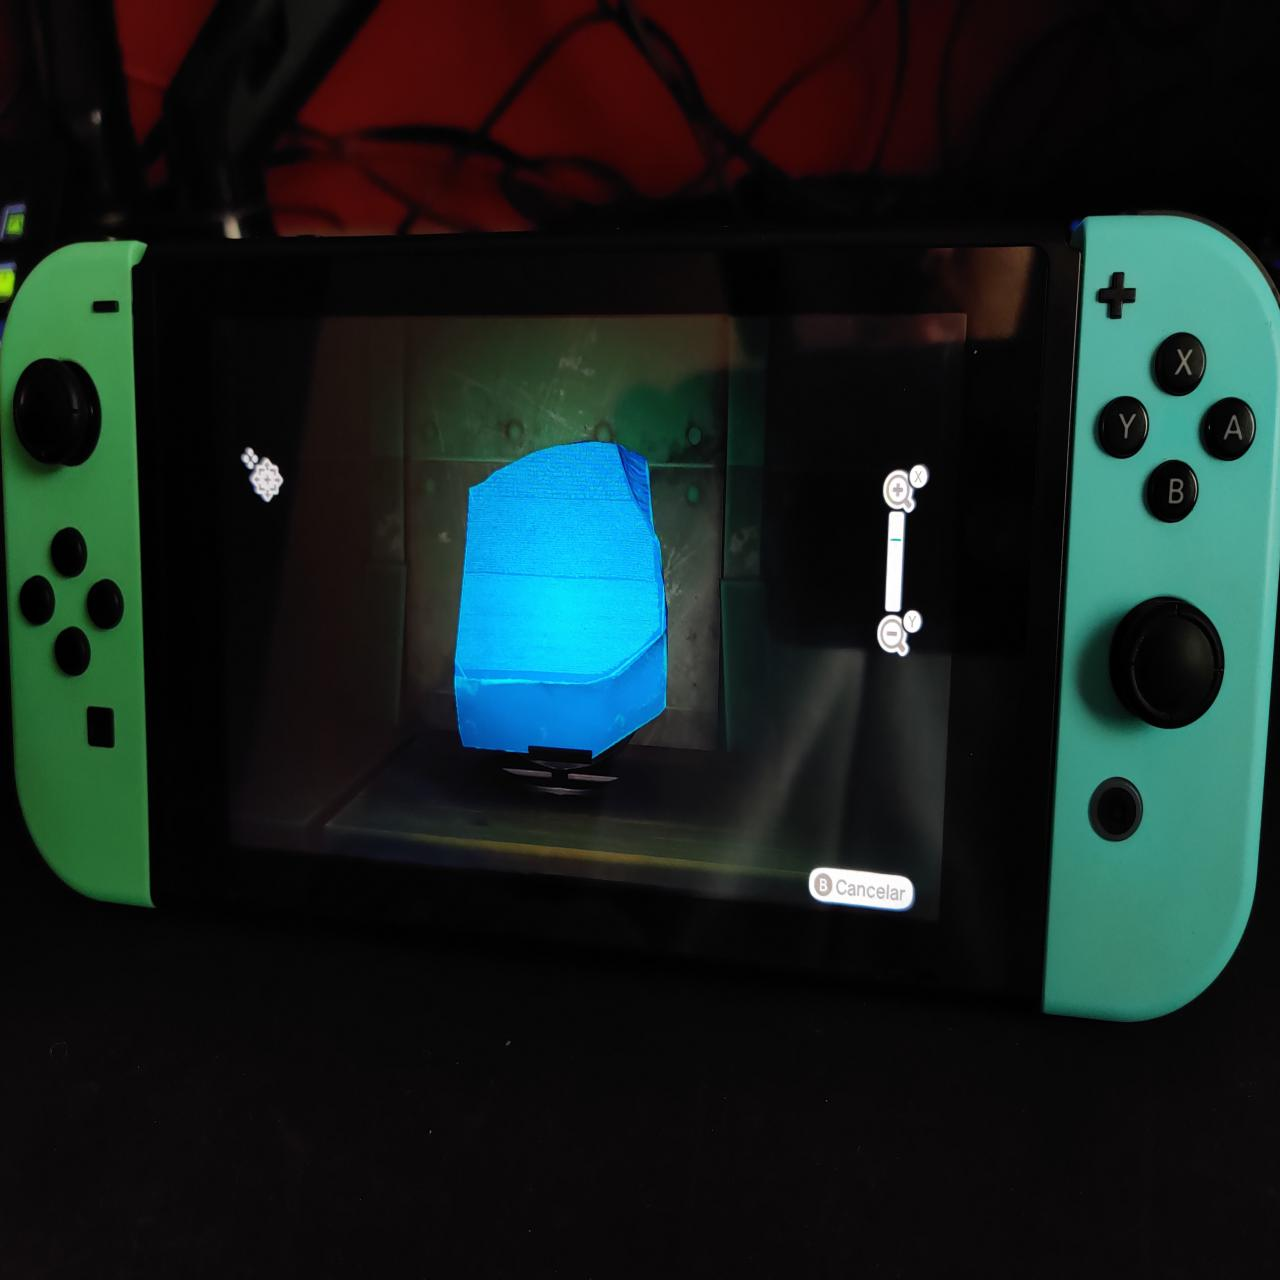RosettaStoneFake: (450, 435, 679, 806)
